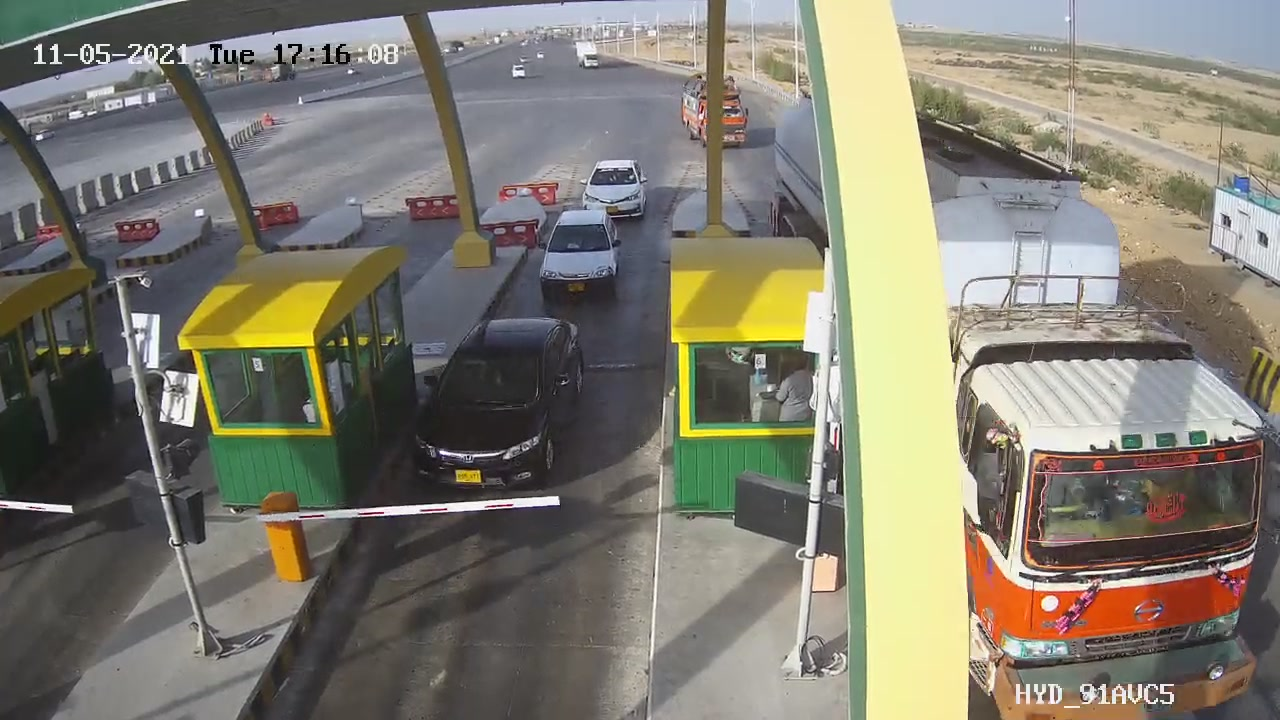F1: (394, 303, 607, 499), (524, 200, 633, 313)
